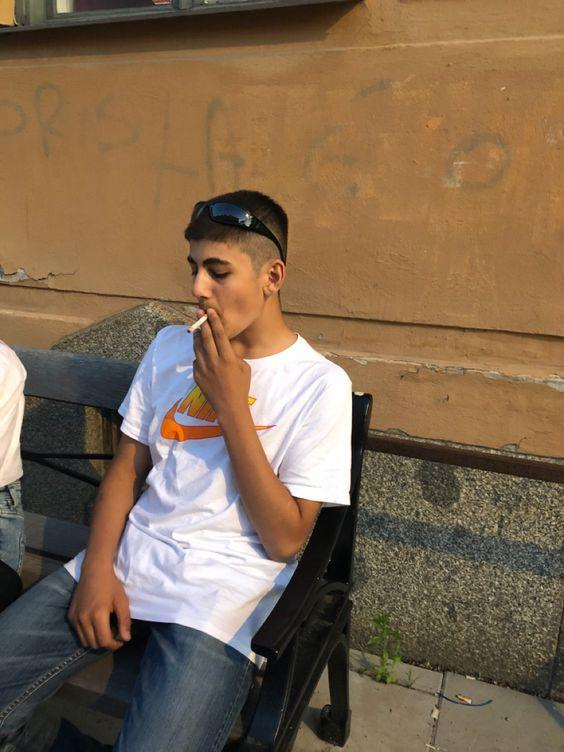cigarette: (186, 313, 209, 334)
